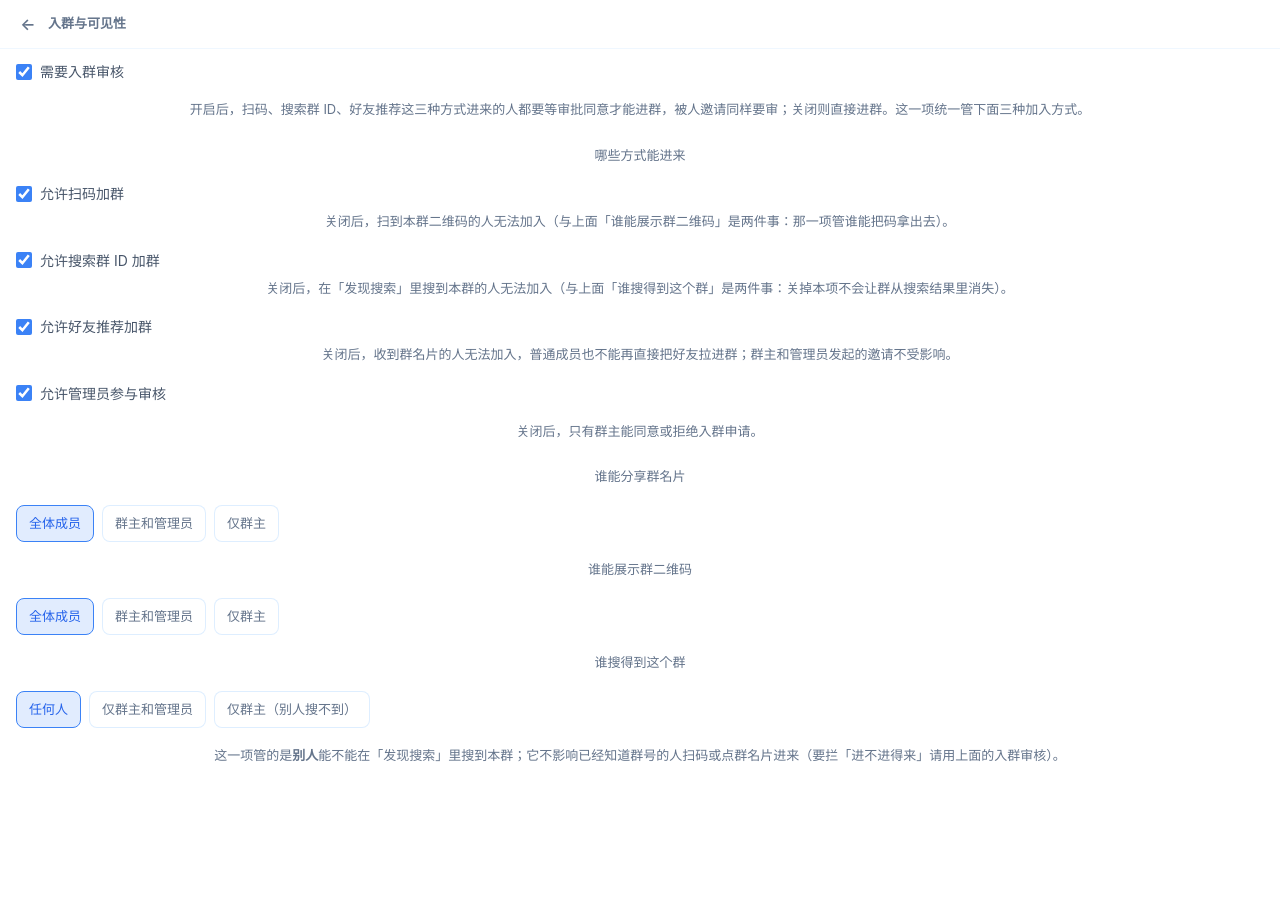
JoinPolicyForm › 改一项 › 响应的五值整体回填（服务端同时改动的其它项也要显示出来）
Check: the checkbox labelled "需要入群审核" is shown, box [16,64,32,80]
Click the button "仅群主和管理员".
click(148, 709)  # box [89,690,206,728]
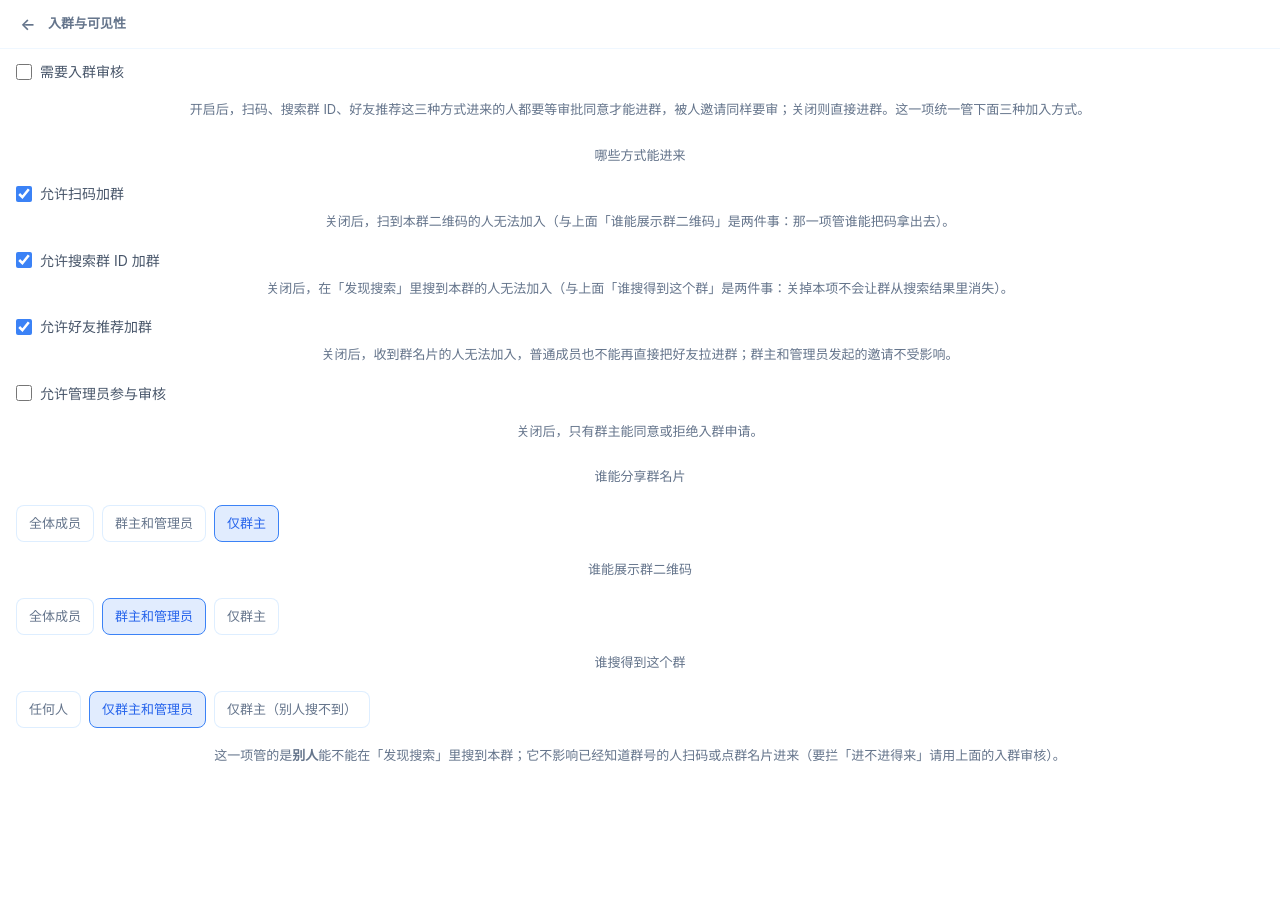
Check: the 1st button "仅群主" is shown, box [214,504,279,542]
Check: the checkbox labelled "需要入群审核" is not checked, box [16,64,32,80]
Check: the checkbox labelled "允许管理员参与审核" is not checked, box [16,385,32,401]
